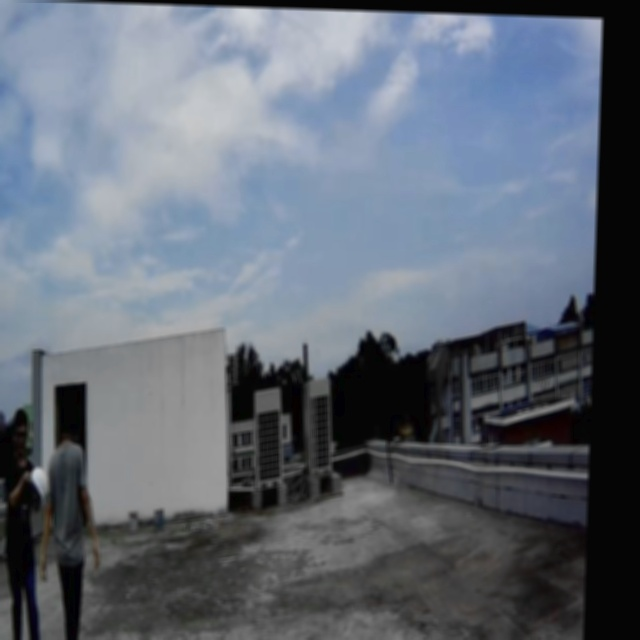Sin_Chaleco: (41, 442, 91, 567)
